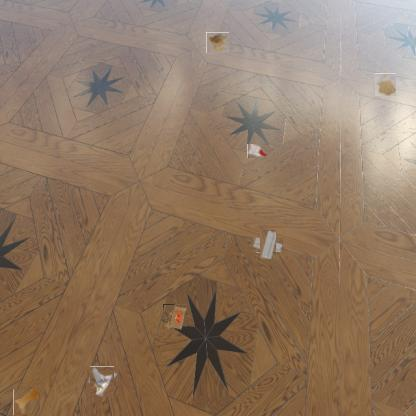dirty: (89, 368, 116, 396), (163, 304, 187, 330), (257, 233, 280, 256), (206, 31, 229, 53), (247, 144, 268, 158)
liquid: (13, 389, 40, 415), (374, 73, 396, 96)
